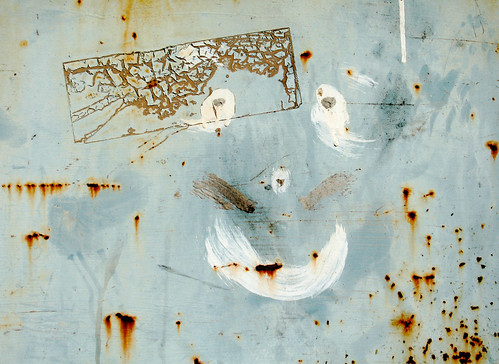graffiti: (163, 75, 454, 340)
